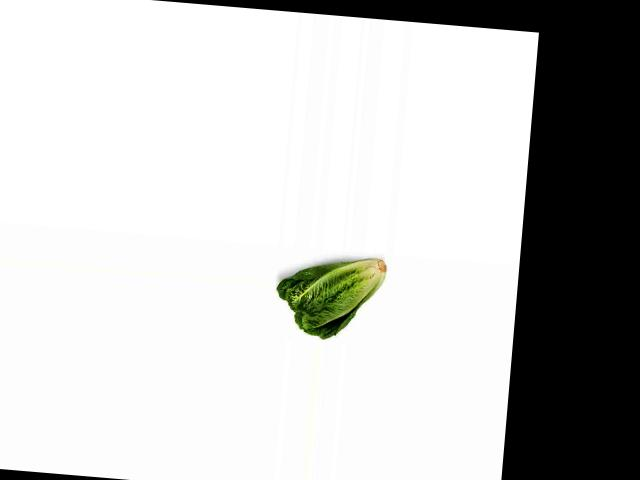lettuce: (273, 247, 395, 343)
